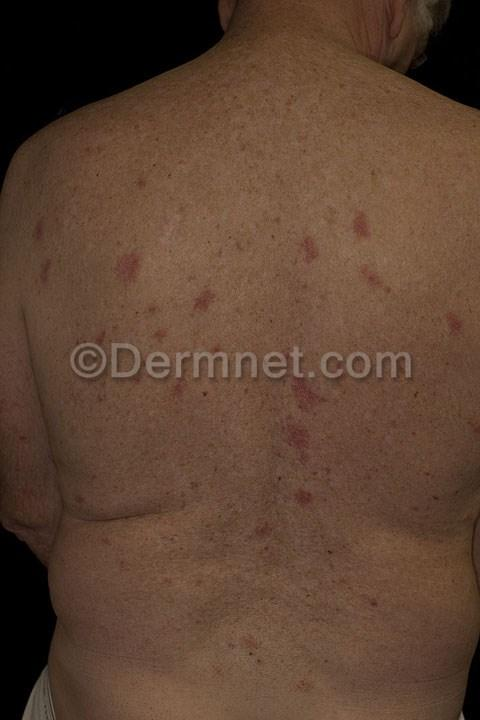Eczema: (195, 564, 349, 720), (268, 178, 448, 310), (262, 358, 354, 561), (127, 284, 269, 404), (90, 205, 167, 308), (0, 190, 80, 288), (412, 284, 480, 367)
